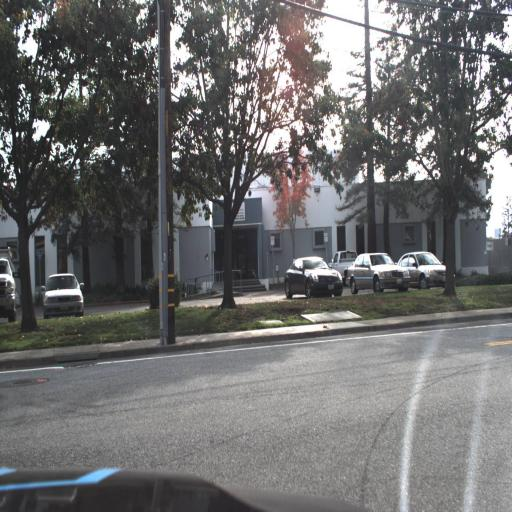car: (345, 248, 408, 294), (41, 271, 89, 320), (285, 257, 341, 298), (399, 249, 453, 285), (0, 250, 14, 322), (330, 246, 352, 276)
